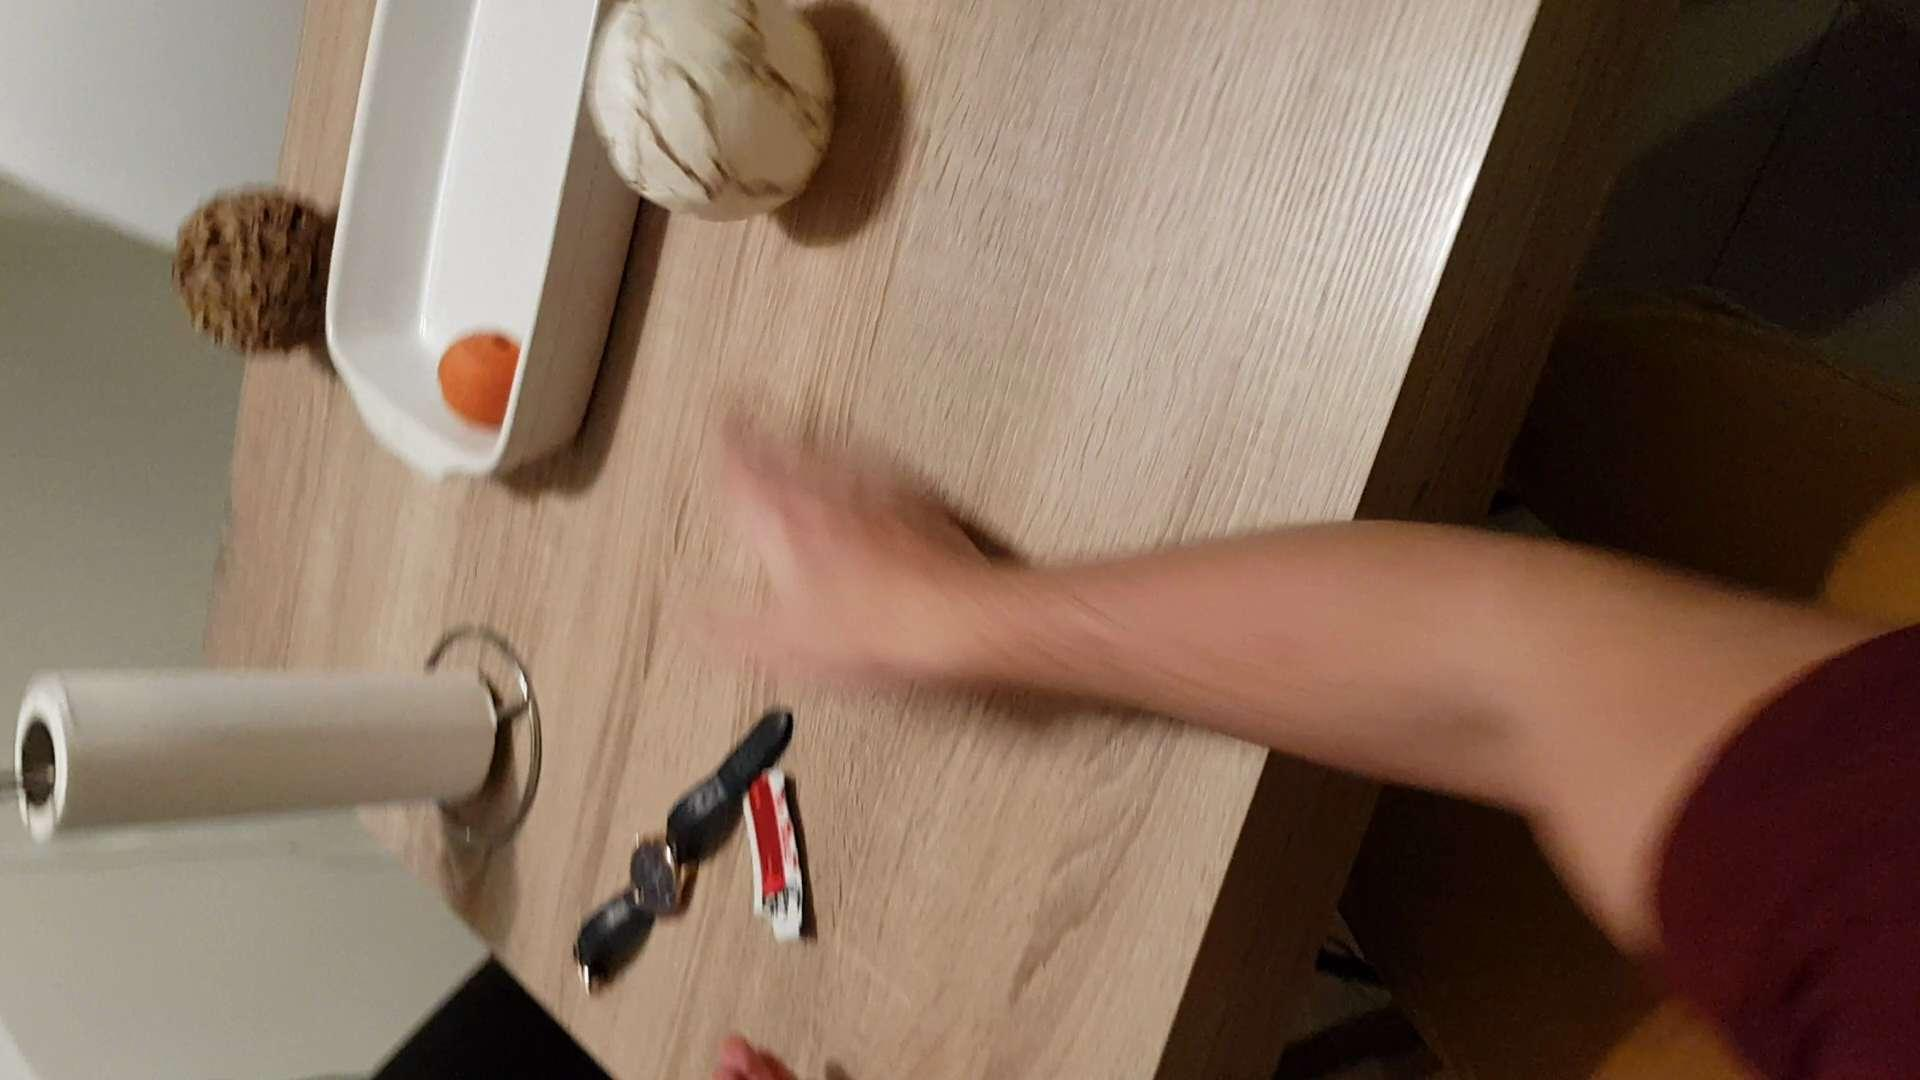Sphere: (582, 0, 825, 228), (166, 179, 338, 359), (438, 322, 533, 422)
